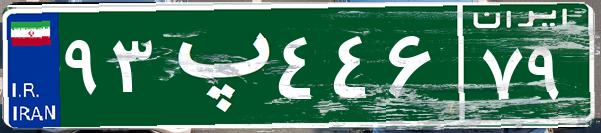3: (110, 28, 158, 105)
4: (273, 28, 330, 110), (330, 28, 385, 110)
6: (385, 28, 445, 110)
7: (475, 38, 525, 113)
9: (57, 26, 110, 107), (525, 38, 570, 115)
پ: (158, 15, 273, 115)
